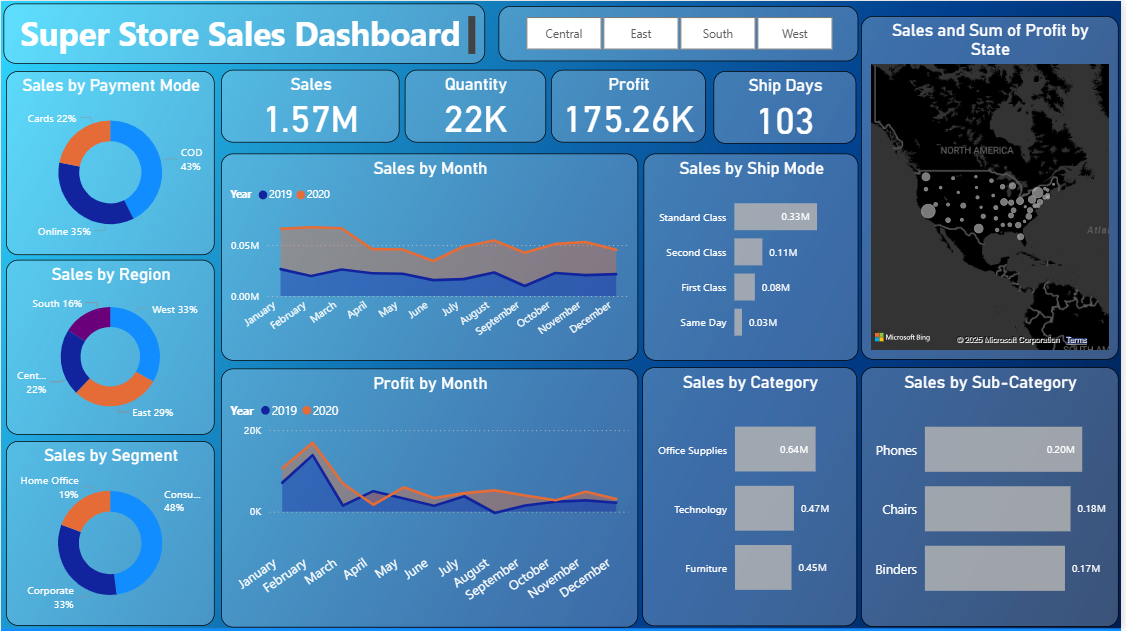

The dashboard page shown, as its layout file describes it:
{"tool":"powerbi","page":{"name":"Page 1","canvas":[1280,720],"ordinal":0},"visuals":[{"type":"clusteredBarChart","title":"Sales by Category","fields":{"Category":["SuperStore_Sales_Dataset.Category"],"Y":["Sum(SuperStore_Sales_Dataset.Sales)"]},"box":[732.9,418.6,245.7,295.7],"z":0},{"type":"clusteredBarChart","title":"Sales by Sub-Category","fields":{"Category":["SuperStore_Sales_Dataset.Sub-Category"],"Y":["Sum(SuperStore_Sales_Dataset.Sales)"]},"box":[982.9,418.6,294.3,297.1],"z":1000},{"type":"clusteredBarChart","title":"Sales by Ship Mode","fields":{"Category":["SuperStore_Sales_Dataset.Ship Mode"],"Y":["Sum(SuperStore_Sales_Dataset.Sales)"]},"box":[734.3,174.3,245.7,237.1],"z":2000},{"type":"stackedAreaChart","title":"Sales by Month","fields":{"Y":["Sum(SuperStore_Sales_Dataset.Sales)"],"Category":["SuperStore_Sales_Dataset.Order Date.Variation.Date Hierarchy.Month","SuperStore_Sales_Dataset.Order Date.Variation.Date Hierarchy.Day"],"Series":["SuperStore_Sales_Dataset.Order Date.Variation.Date Hierarchy.Year"]},"box":[251.4,174.3,477.1,237.1],"z":3000},{"type":"stackedAreaChart","title":"Profit by Month","fields":{"Category":["SuperStore_Sales_Dataset.Order Date.Variation.Date Hierarchy.Month","SuperStore_Sales_Dataset.Order Date.Variation.Date Hierarchy.Day"],"Series":["SuperStore_Sales_Dataset.Order Date.Variation.Date Hierarchy.Year"],"Y":["Sum(SuperStore_Sales_Dataset.Profit)"]},"box":[251.4,420,477.1,295.7],"z":4000},{"type":"map","title":"Sales and Sum of Profit by State","fields":{"Category":["SuperStore_Sales_Dataset.State"],"Size":["Sum(SuperStore_Sales_Dataset.Sales)"]},"box":[982.9,17.1,294.3,392.9],"z":5000},{"type":"donutChart","title":"Sales by Region","fields":{"Category":["SuperStore_Sales_Dataset.Region"],"Y":["Sum(SuperStore_Sales_Dataset.Sales)"]},"box":[5.7,295.7,238.6,200],"z":6000},{"type":"donutChart","title":" Sales by Segment","fields":{"Category":["SuperStore_Sales_Dataset.Segment"],"Y":["Sum(SuperStore_Sales_Dataset.Sales)"]},"box":[5.7,502.9,238.6,211.4],"z":7000},{"type":"slicer","fields":{"Values":["SuperStore_Sales_Dataset.Region"]},"box":[568.6,5.7,411.4,62.9],"z":8000},{"type":"textbox","box":[2.9,2.9,550,68.6],"z":9000},{"type":"card","title":"Sales","fields":{"Values":["Sum(SuperStore_Sales_Dataset.Sales)"]},"box":[251.4,78.6,204.3,82.9],"z":10000},{"type":"card","title":"Quantity","fields":{"Values":["Sum(SuperStore_Sales_Dataset.Quantity)"]},"box":[461.4,78.6,161.4,82.9],"z":11000},{"type":"card","title":"Profit","fields":{"Values":["Sum(SuperStore_Sales_Dataset.Profit)"]},"box":[628.6,78.6,177.1,82.9],"z":12000},{"type":"card","title":"Ship Days","fields":{"Values":["Avg(SuperStore_Sales_Dataset.AvgDelivery)"]},"box":[814.3,80,162.9,82.9],"z":13000},{"type":"donutChart","title":"Sales by Payment Mode","fields":{"Category":["SuperStore_Sales_Dataset.Payment Mode"],"Y":["Sum(SuperStore_Sales_Dataset.Sales)"]},"box":[5.7,80,238.6,210],"z":14000}]}

Visuals, with their boxes in screenshot pixels (x1, y1, x2, y2), scaled from the page's 1280x720 canvas onto the 1126x631 screenshot:
"Sales by Category" clusteredBarChart: 645, 367, 861, 626
"Sales by Sub-Category" clusteredBarChart: 865, 367, 1124, 627
"Sales by Ship Mode" clusteredBarChart: 646, 153, 862, 361
"Sales by Month" stackedAreaChart: 221, 153, 641, 361
"Profit by Month" stackedAreaChart: 221, 368, 641, 627
"Sales and Sum of Profit by State" map: 865, 15, 1124, 359
"Sales by Region" donutChart: 5, 259, 215, 434
" Sales by Segment" donutChart: 5, 441, 215, 626
slicer - SuperStore_Sales_Dataset.Region: 500, 5, 862, 60
textbox: 3, 3, 486, 63
"Sales" card: 221, 69, 401, 142
"Quantity" card: 406, 69, 548, 142
"Profit" card: 553, 69, 709, 142
"Ship Days" card: 716, 70, 860, 143
"Sales by Payment Mode" donutChart: 5, 70, 215, 254
